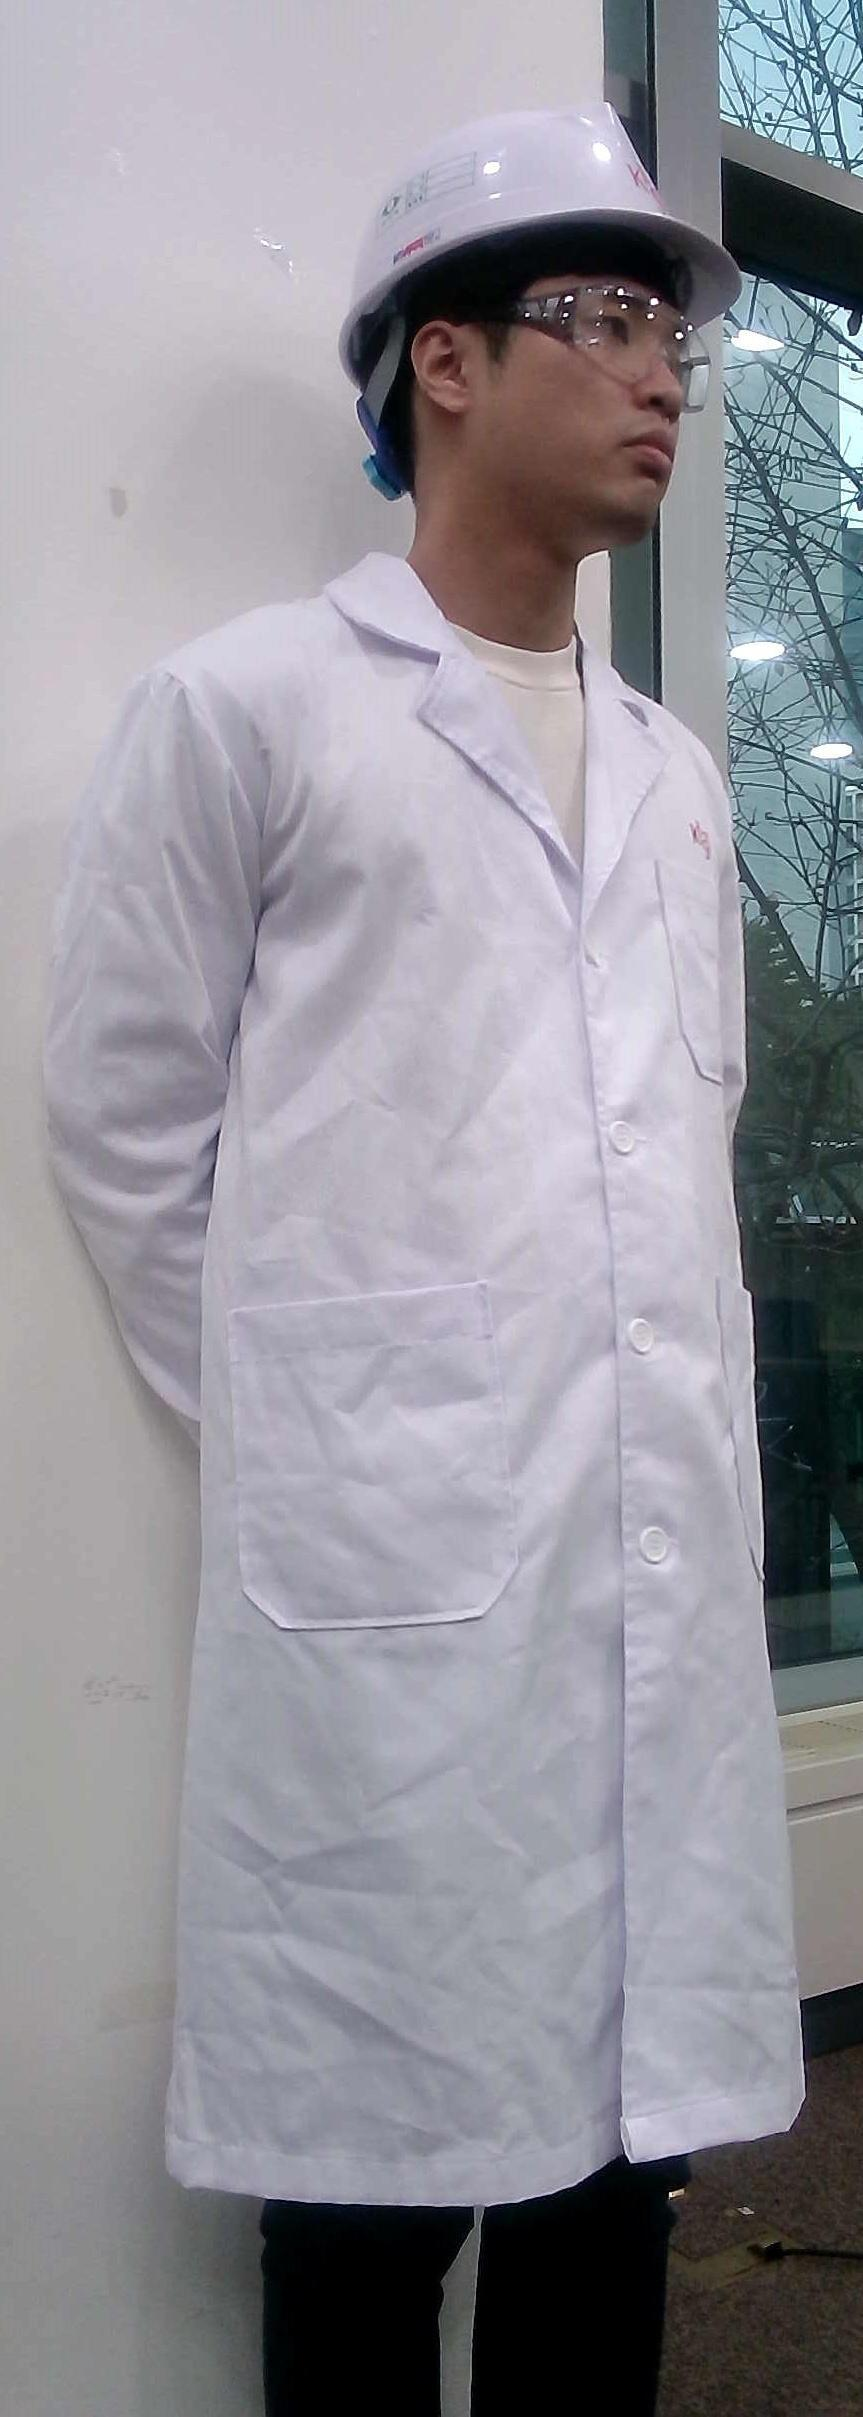lab_coat: (76, 641, 860, 2175)
